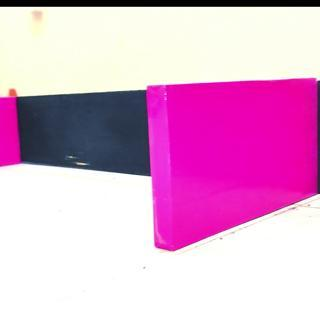xparking: (154, 87, 317, 219), (0, 95, 17, 163)
